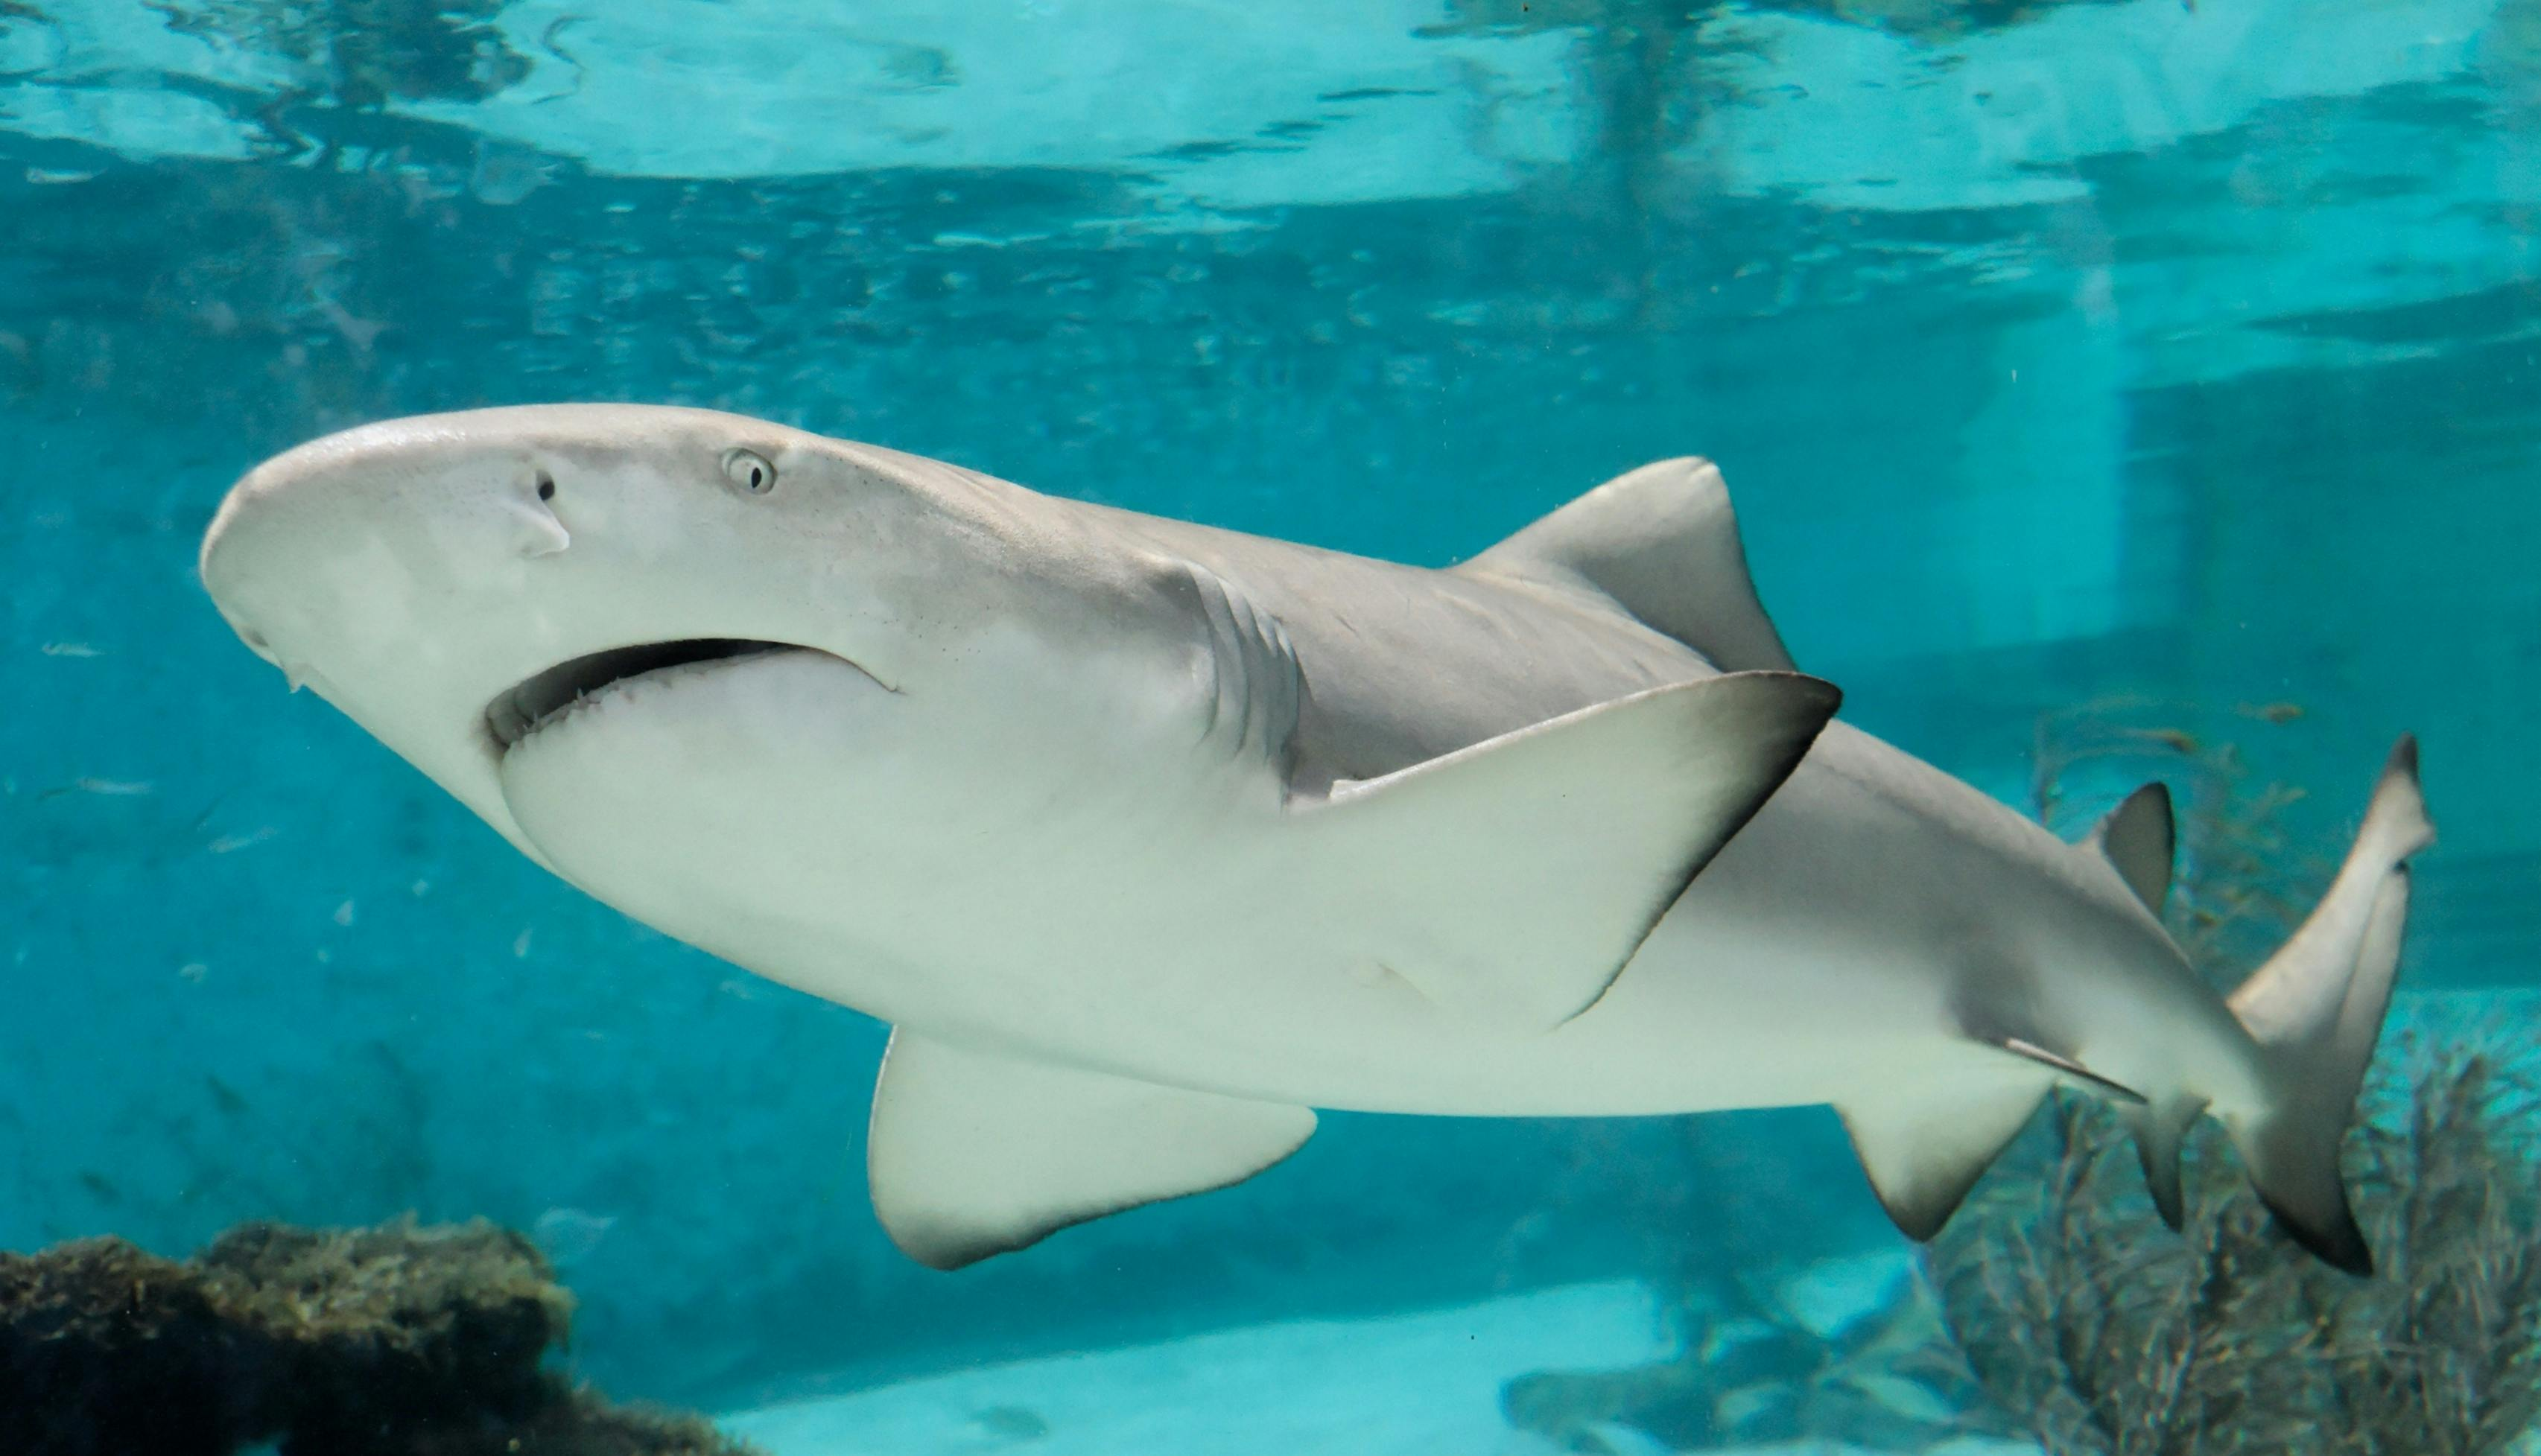shark: (192, 389, 2440, 1283)
